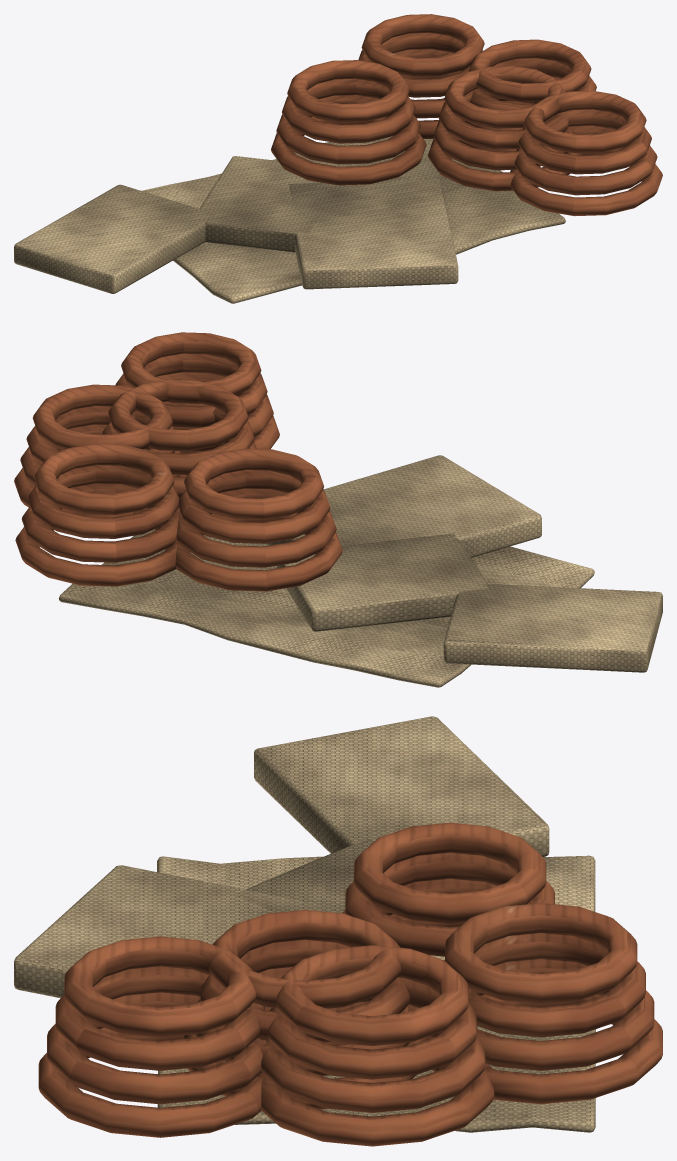
The model's file is mat_rope.glb.
3 renders of one model, top to bottom at view 1: azimuth 30°, elevation 25°; view 2: azimuth 150°, elevation 25°; view 3: azimuth 270°, elevation 25°, orthographic. The views are drawn at different scales.
Visible parts, largest first — view 1: mat_rope; view 2: mat_rope; view 3: mat_rope.
Boxes of the visible parts, x1=… form: mat_rope: x1=14, y1=14, x2=662, y2=303; mat_rope: x1=14, y1=332, x2=662, y2=687; mat_rope: x1=14, y1=716, x2=662, y2=1146.
Bounding box in the file's own units: 1.43 × 0.2725 × 0.8895.
Materials: 2 (2 with a texture image).
